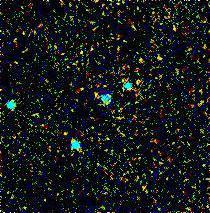star: (80, 79, 110, 109)
